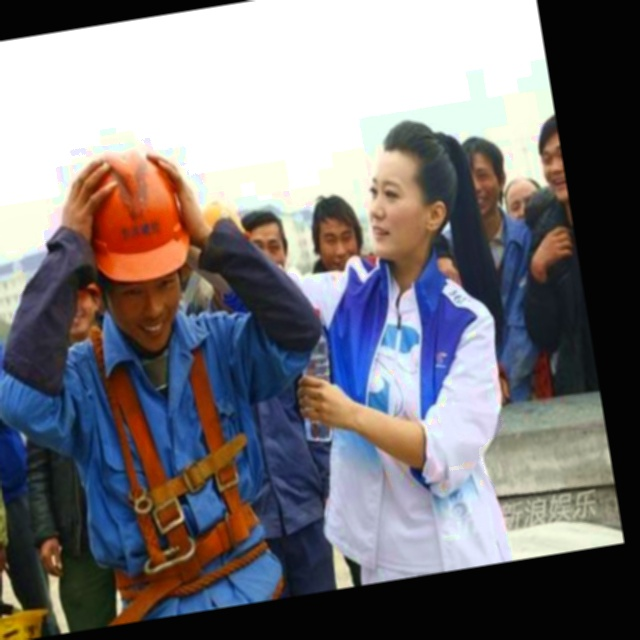Sin_Casco_Mascarrilla: (355, 115, 469, 270)
